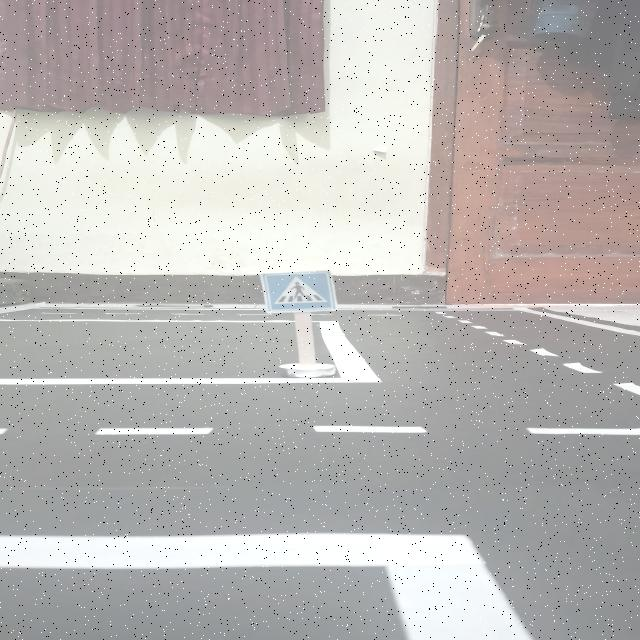Rambu Penyebrangan: (262, 270, 337, 312)
